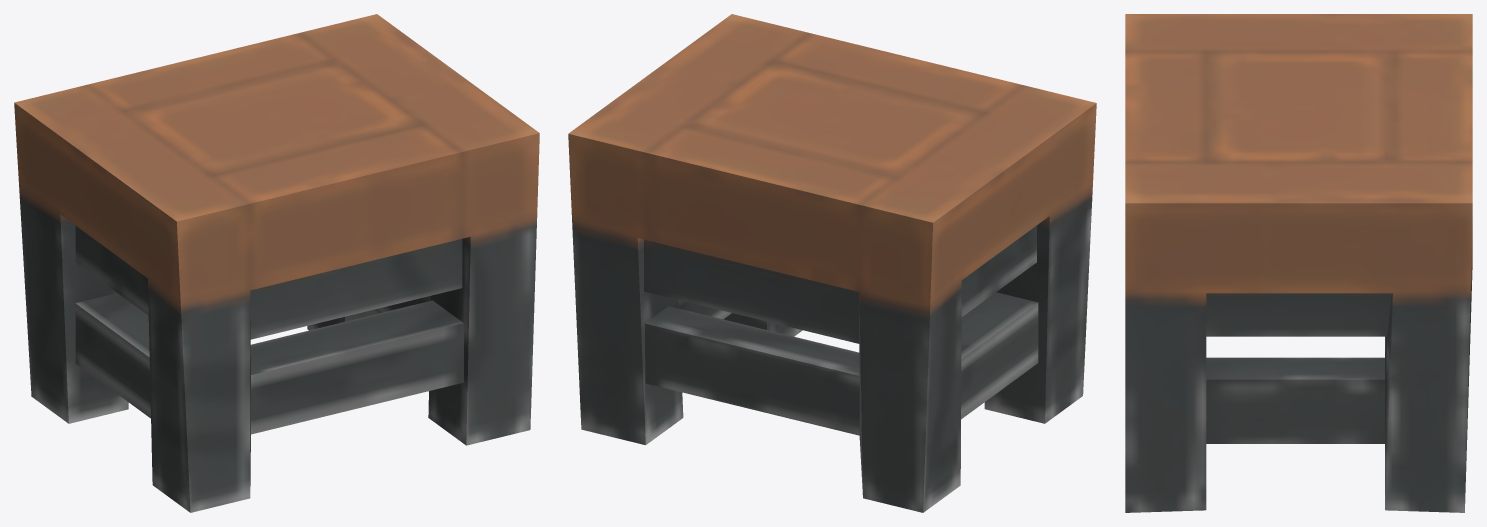
The model's file is Prfb_Indoors_Stool.fbx.
The picture shows the model from 3 angles, left to right: view 1: azimuth 30°, elevation 25°; view 2: azimuth 150°, elevation 25°; view 3: azimuth 270°, elevation 25°; orthographic projection. The views are drawn at different scales.
Visible parts, largest first — view 1: Mat_Indoors_Table_02; view 2: Mat_Indoors_Table_02; view 3: Mat_Indoors_Table_02.
Boxes of the visible parts, <box> form: Mat_Indoors_Table_02: <box>14,14,539,512</box>; Mat_Indoors_Table_02: <box>568,14,1096,512</box>; Mat_Indoors_Table_02: <box>1125,14,1472,512</box>.
Size of the model in its own units: 0.4721 by 0.3662 by 0.3666.
1 material, 1 textured.
